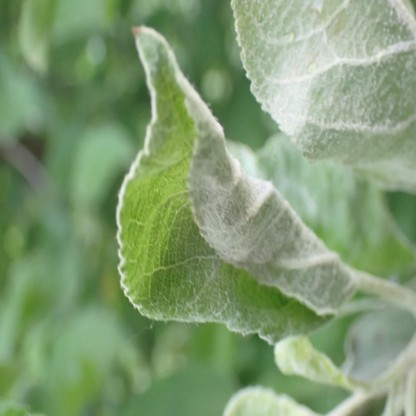powdery_mildew: (115, 25, 358, 338), (230, 2, 416, 163), (274, 336, 371, 392), (222, 385, 321, 415)
